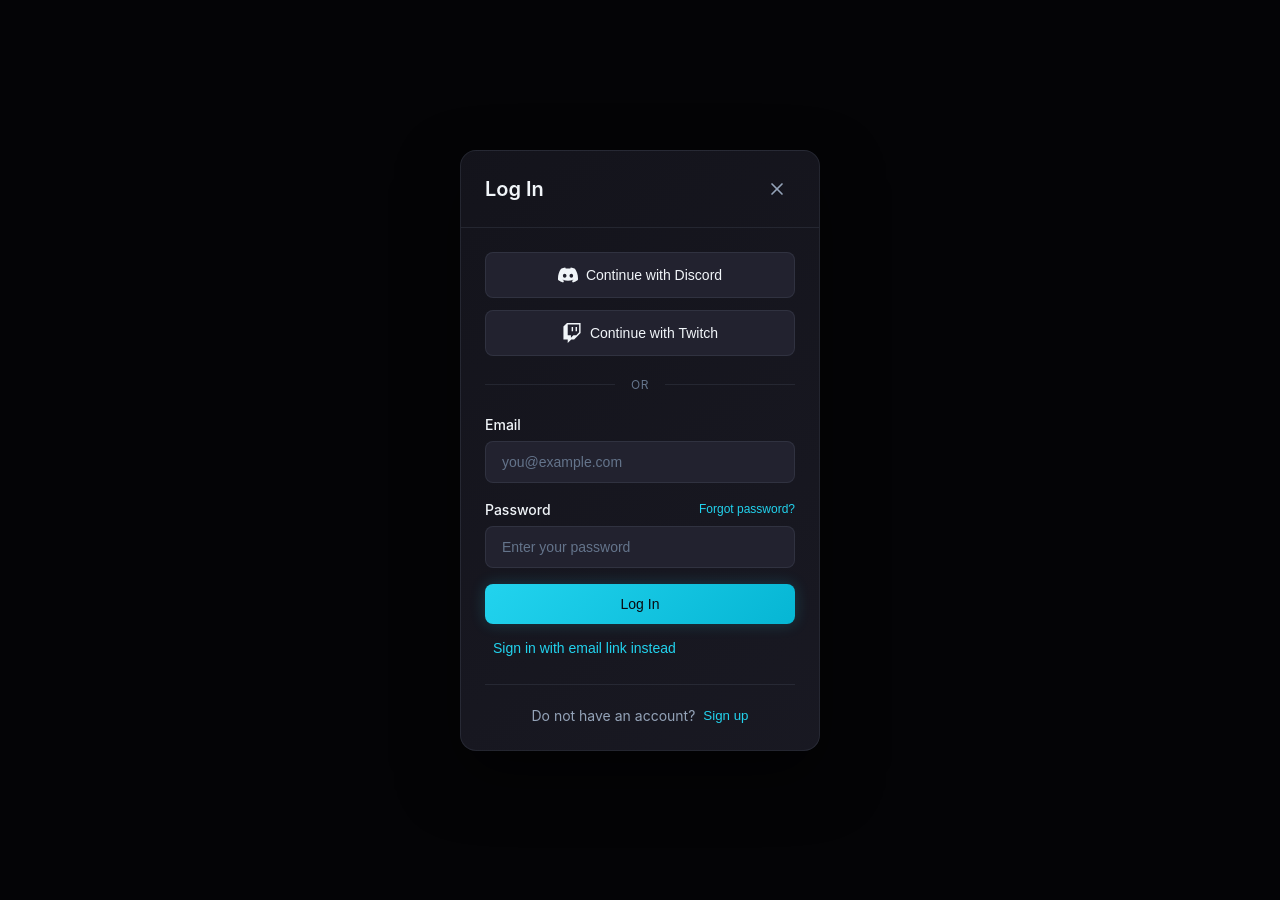
Test: LoginModal Component › should show validation errors for empty fields
The width and height of the screenshot is (1280, 900).
# Submit empty form
Click the button with test id "login-submit-button": (640, 604) left=485, top=584, right=795, bottom=624
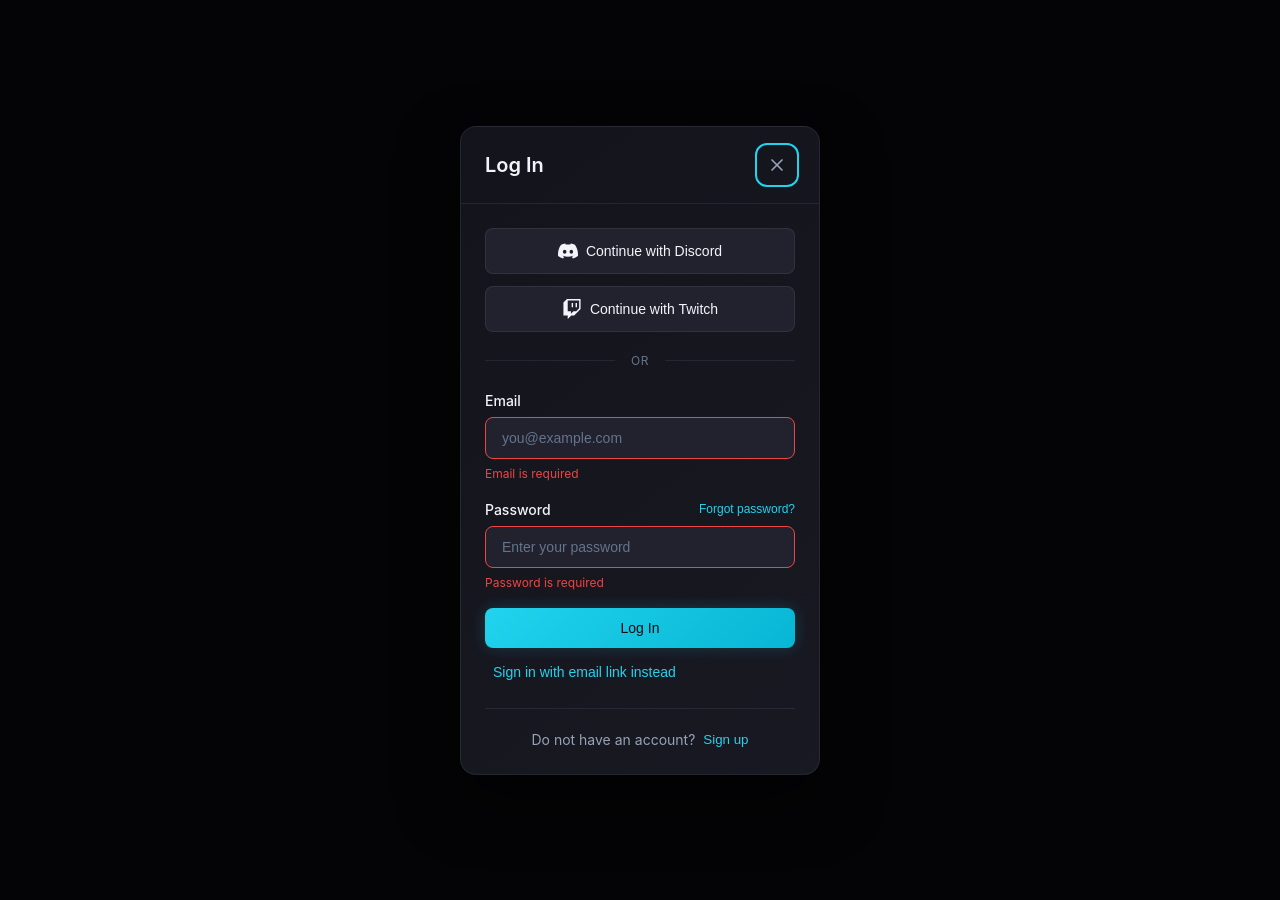
Expected: the message "Email is required" is shown, left=485, top=466, right=579, bottom=480
